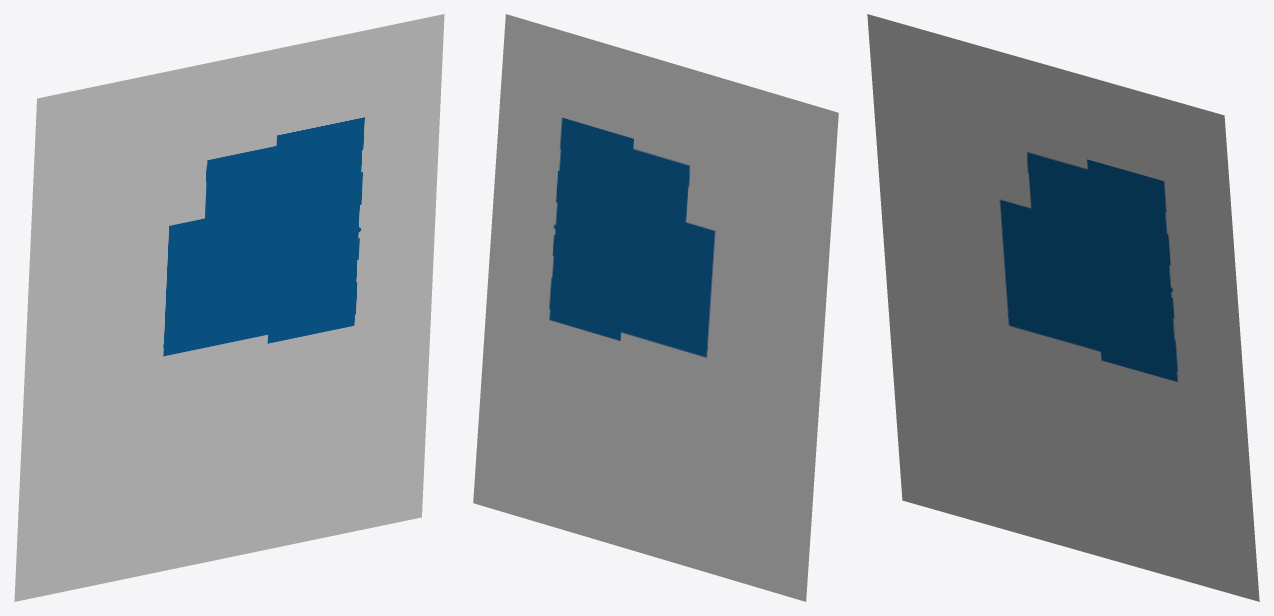
The model's file is Morph_mouse_vole_possum.glb.
The picture shows the model from 3 angles, left to right: view 1: azimuth 30°, elevation 25°; view 2: azimuth 150°, elevation 25°; view 3: azimuth 330°, elevation 25°; orthographic projection. The views are drawn at different scales.
Visible parts, largest first — view 1: m3; view 2: m3; view 3: m3.
Boxes of the visible parts, <box> form: m3: <box>14,14,444,601</box>; m3: <box>473,14,838,601</box>; m3: <box>867,14,1259,601</box>.
Bounding box in the file's own units: 4.24 × 5.4 × 0.8738.
Materials: 1 (1 with a texture image).
